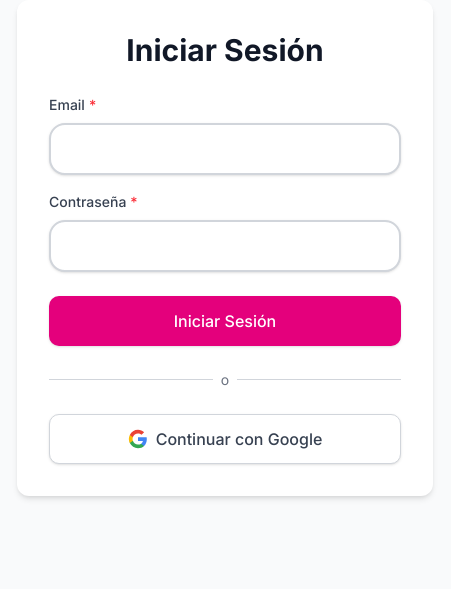
LoginForm Integration Tests › Google OAuth Authentication Flow › should display error when Google OAuth is cancelled
Click the button "Continuar con Google" at (225, 438), box [49, 414, 401, 464]
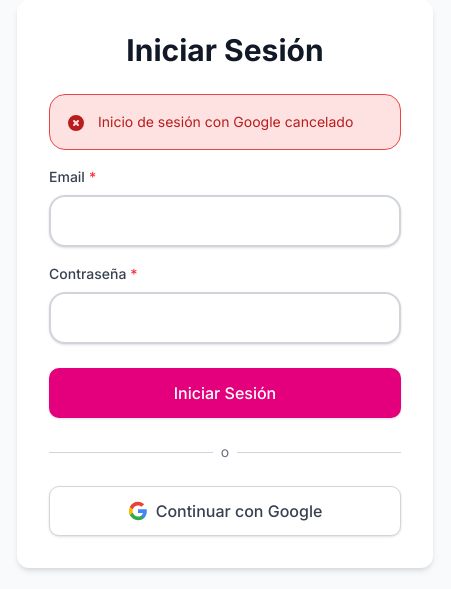
expect the text "Inicio de sesión con Google cancelado" is shown: met, box [98, 112, 353, 130]
